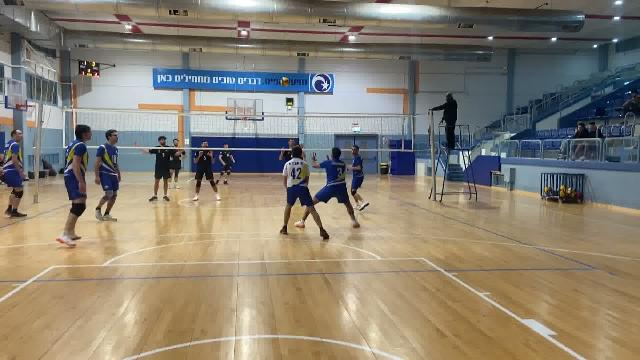ball: (279, 75, 293, 90)
